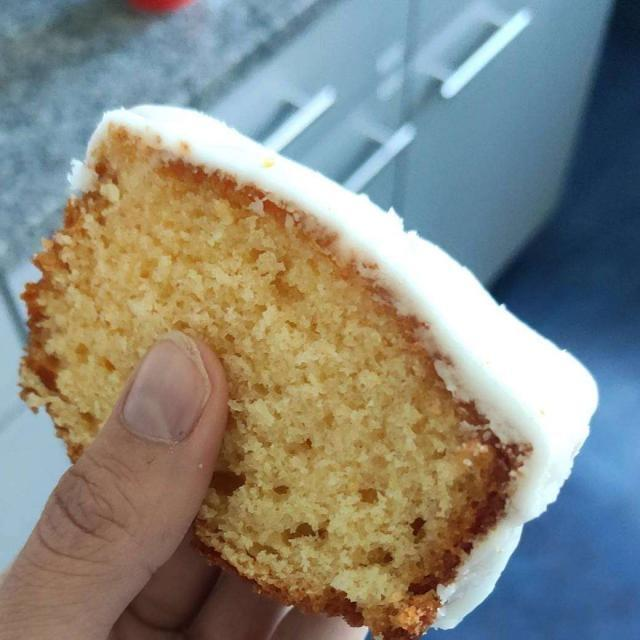cake: (28, 115, 571, 622)
sugar-glazing: (108, 98, 596, 618)
